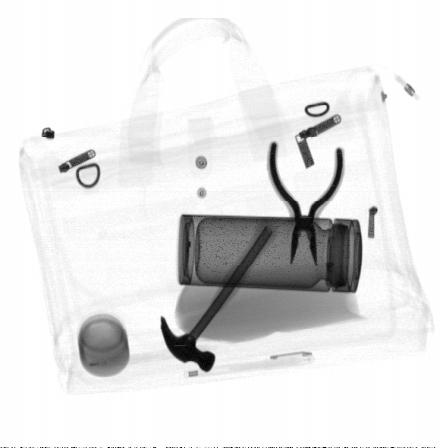Hammer: (161, 217, 280, 374)
Pliers: (267, 140, 345, 268)
